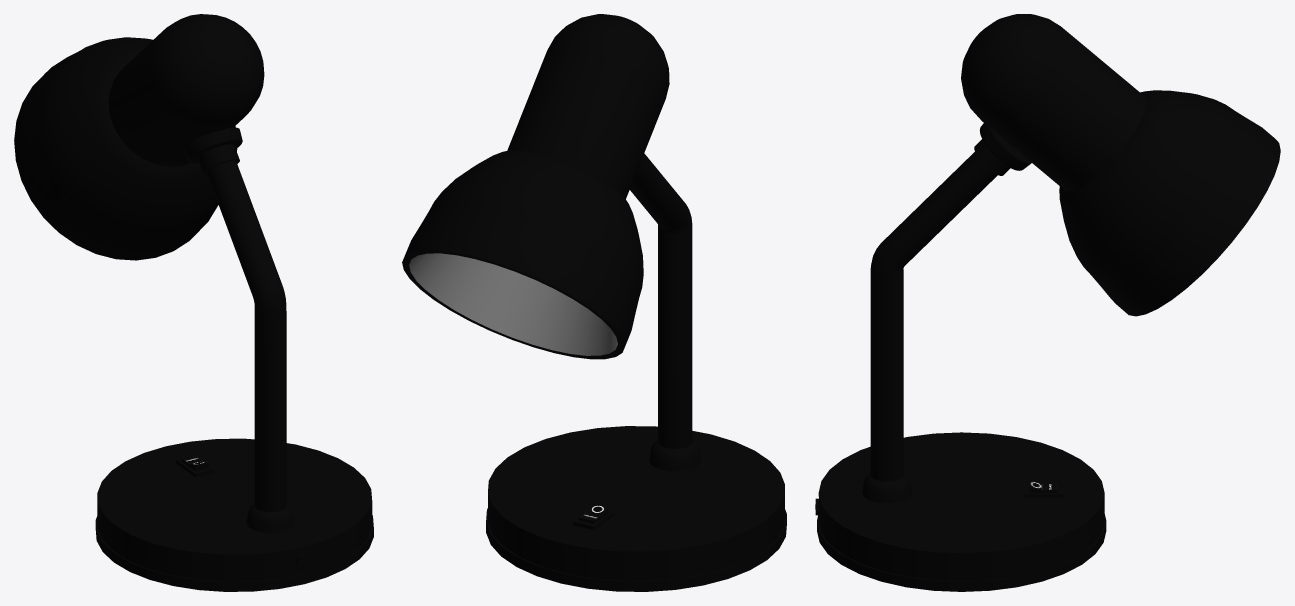
The model's file is ライト.fbx.
The picture shows the model from 3 angles, left to right: view 1: azimuth 30°, elevation 25°; view 2: azimuth 150°, elevation 25°; view 3: azimuth 270°, elevation 25°; orthographic projection. The views are drawn at different scales.
Parts seen in each view (by area): view 1: 円; view 2: 円; view 3: 円.
Part boxes in pixels (x1,y1,x2,y2): 円: (14, 14, 373, 591); 円: (402, 14, 786, 591); 円: (815, 14, 1280, 591).
Size of the model in its own units: 28.44 by 55.4 by 45.73.
